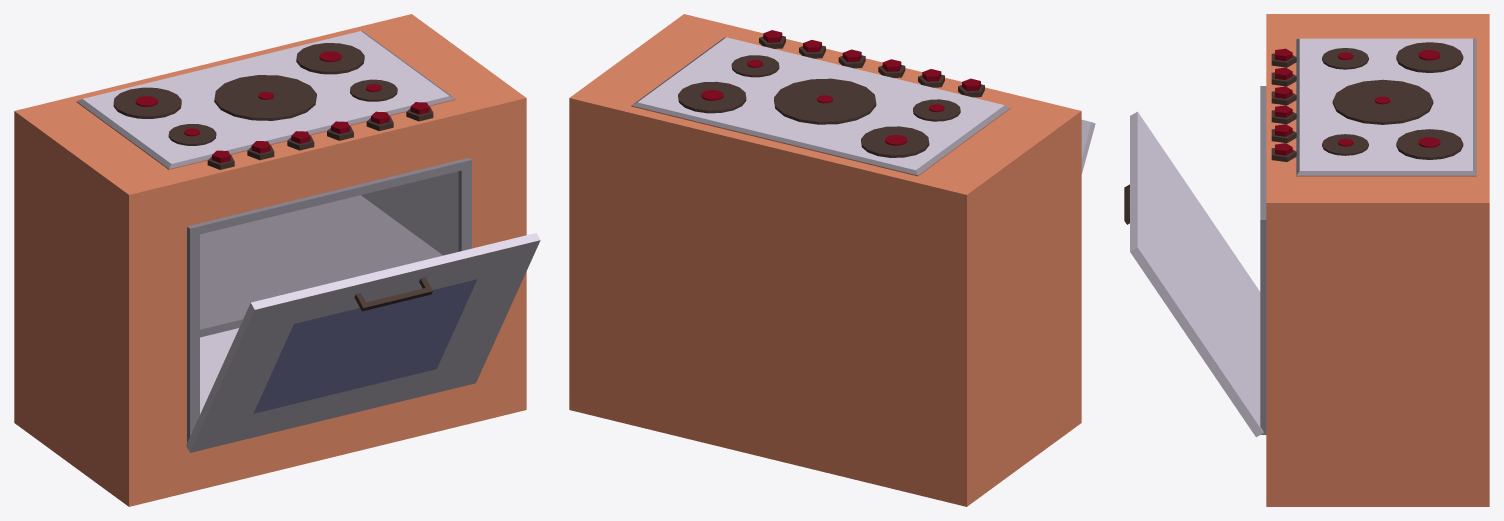
The model's file is meublesCuisineBas3.fbx.
3 views of the same model, side by side, from view 1: azimuth 30°, elevation 25°; view 2: azimuth 150°, elevation 25°; view 3: azimuth 270°, elevation 25° (orthographic). The views are drawn at different scales.
Parts seen in each view (by area): view 1: Placard6; view 2: Placard6; view 3: Placard6.
Part boxes in pixels (x1,y1,x2,y2): Placard6: (14, 14, 540, 506); Placard6: (569, 14, 1095, 506); Placard6: (1124, 14, 1489, 506).
Size of the model in its own units: 400 by 309 by 327.
